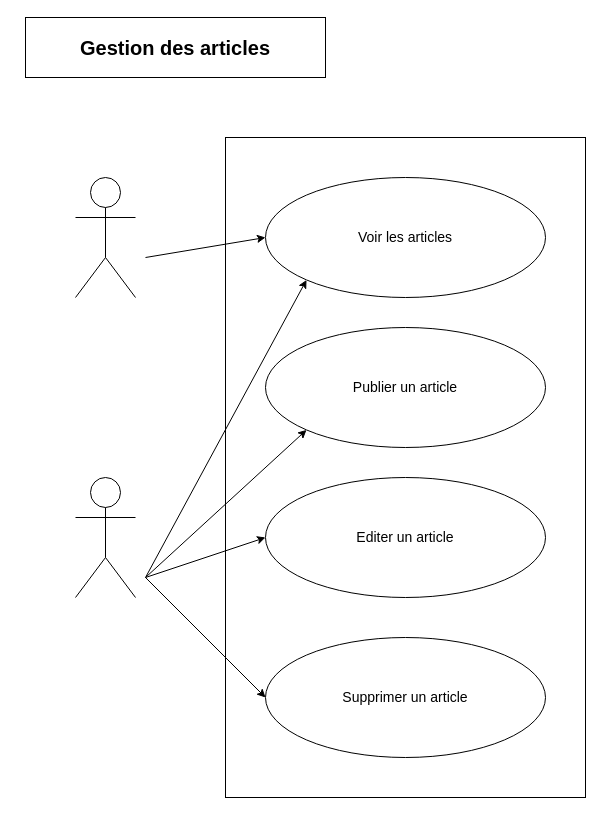
Some shapes in this 603 by 815 pixel diagram are drawn without their labels. The box of each missing label's shape, as (x1, y1, x2, y2) in pixels:
Administrateur: (74, 476, 136, 598)
Système: (514, 138, 584, 178)
Visiteur / Utilisateur inscrit: (74, 176, 136, 298)
